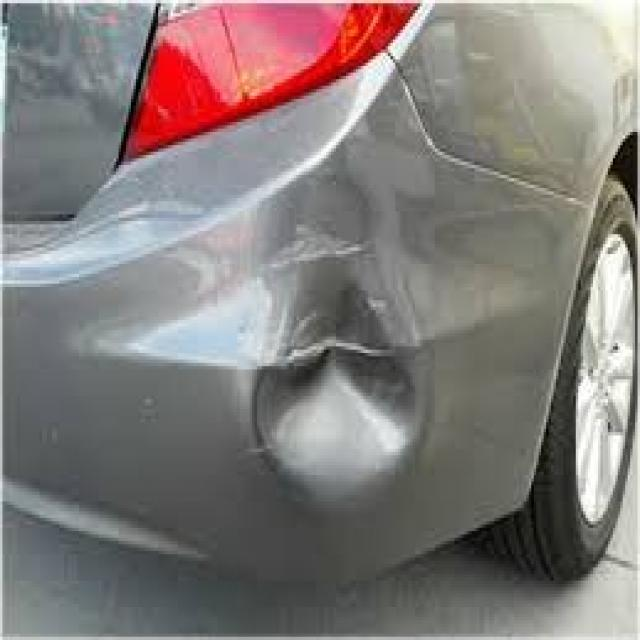dent-or-scratch: (248, 262, 436, 514)
